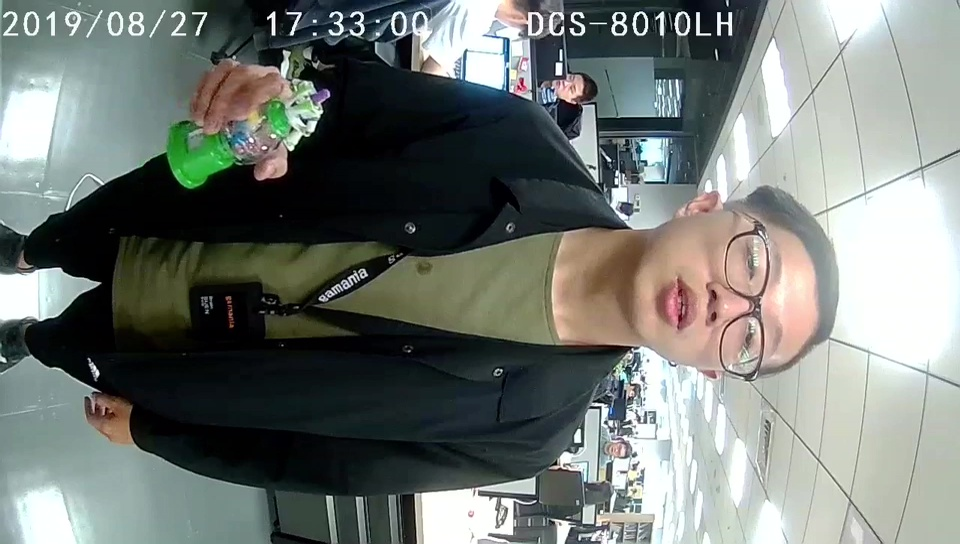buzz: (166, 76, 331, 191)
